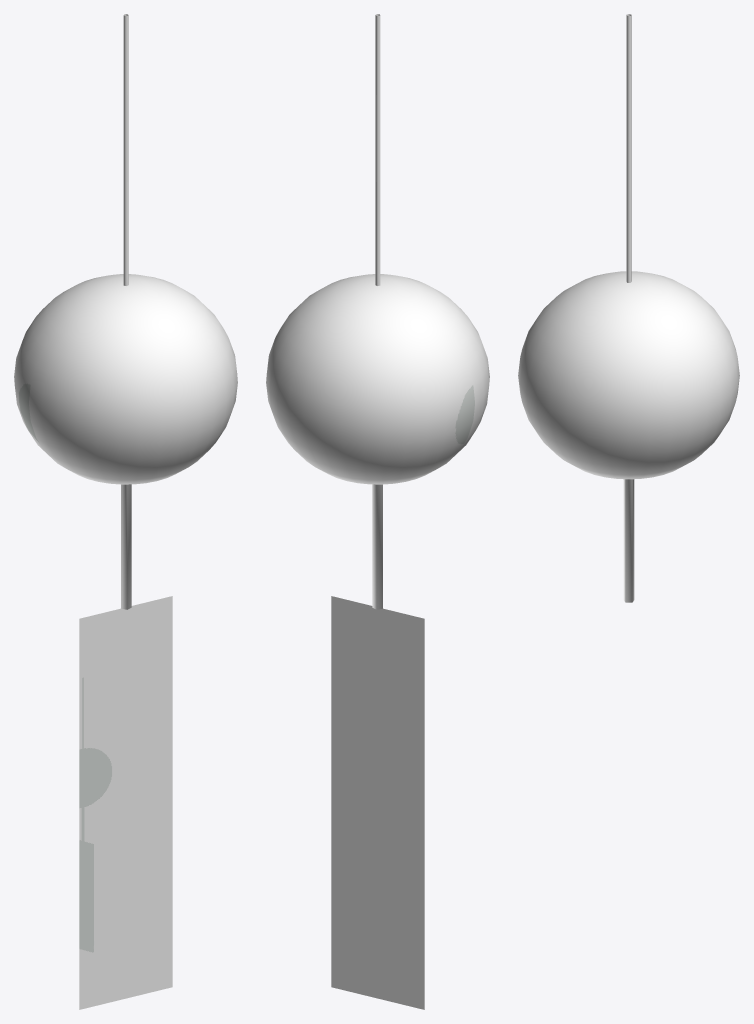
Rendered from Furin.fbx.
The picture shows the model from 3 angles, left to right: view 1: azimuth 30°, elevation 25°; view 2: azimuth 150°, elevation 25°; view 3: azimuth 270°, elevation 25°; orthographic projection.
Visible parts, largest first — view 1: Furin.001; view 2: Furin.001; view 3: Furin.001.
Boxes of the visible parts, x1,y1,x2,y2 form: Furin.001: (14,14,237,1009); Furin.001: (266,14,489,1009); Furin.001: (518,14,739,602).
Size of the model in its own units: 0.104 by 0.503 by 0.104.
